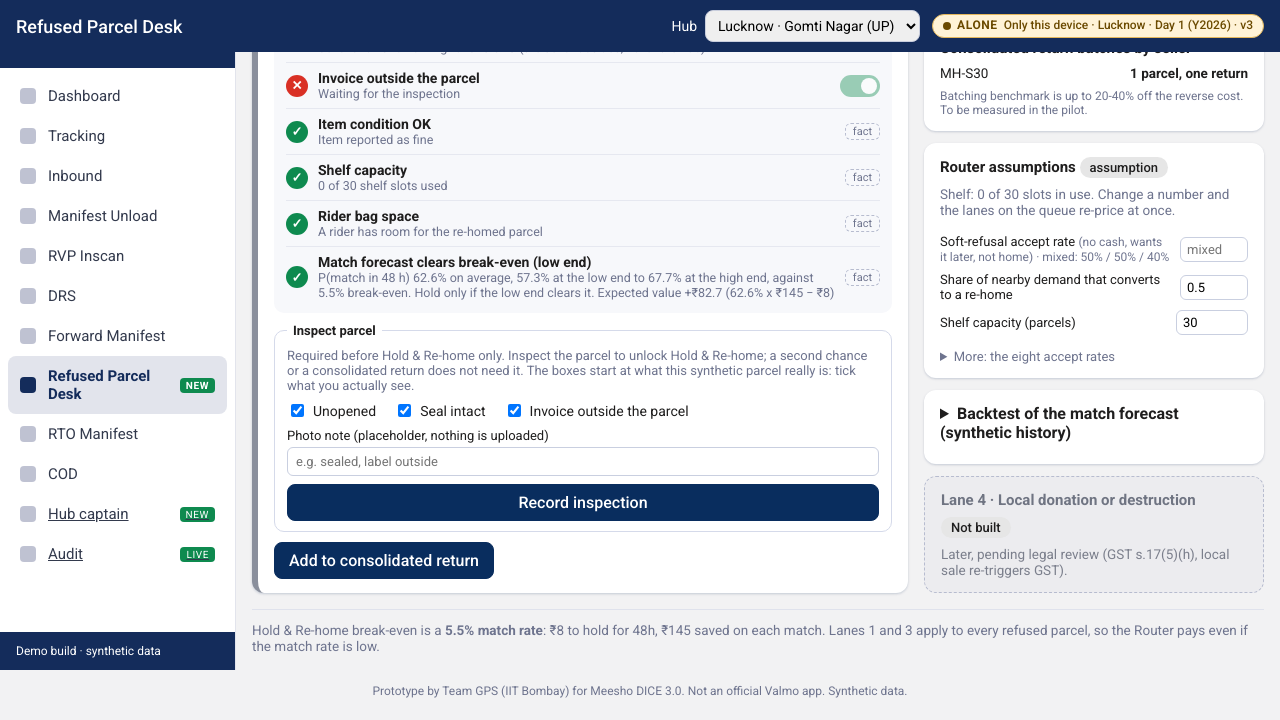
Test: desk: Inspect parcel › recording the inspection stores who and what, unlocks Hold & Re-home, and shows the record
(page scrolled)
Type "label outside" into the field labelled "Photo note (placeholder, nothing is uploaded)". click: (583, 462)
box: [287,447,879,476]
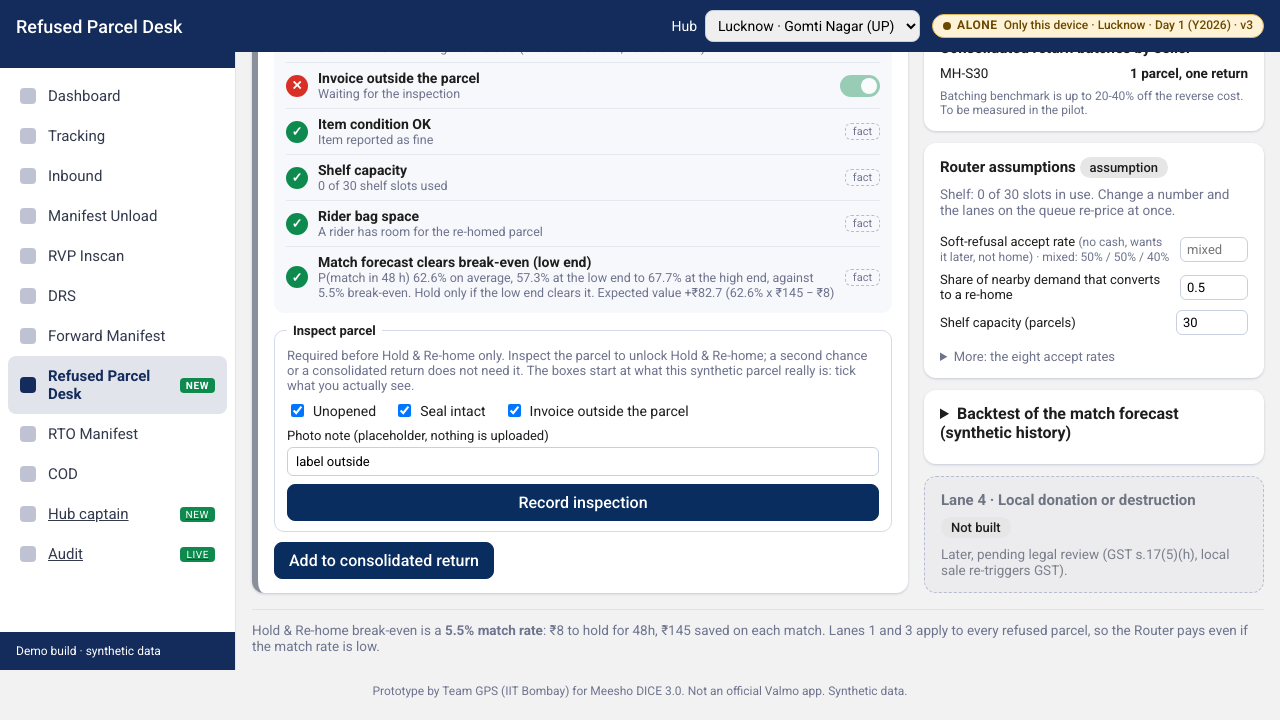
Click the button "Record inspection". click: (583, 503)
box: [287,484,879,521]
(page scrolled)
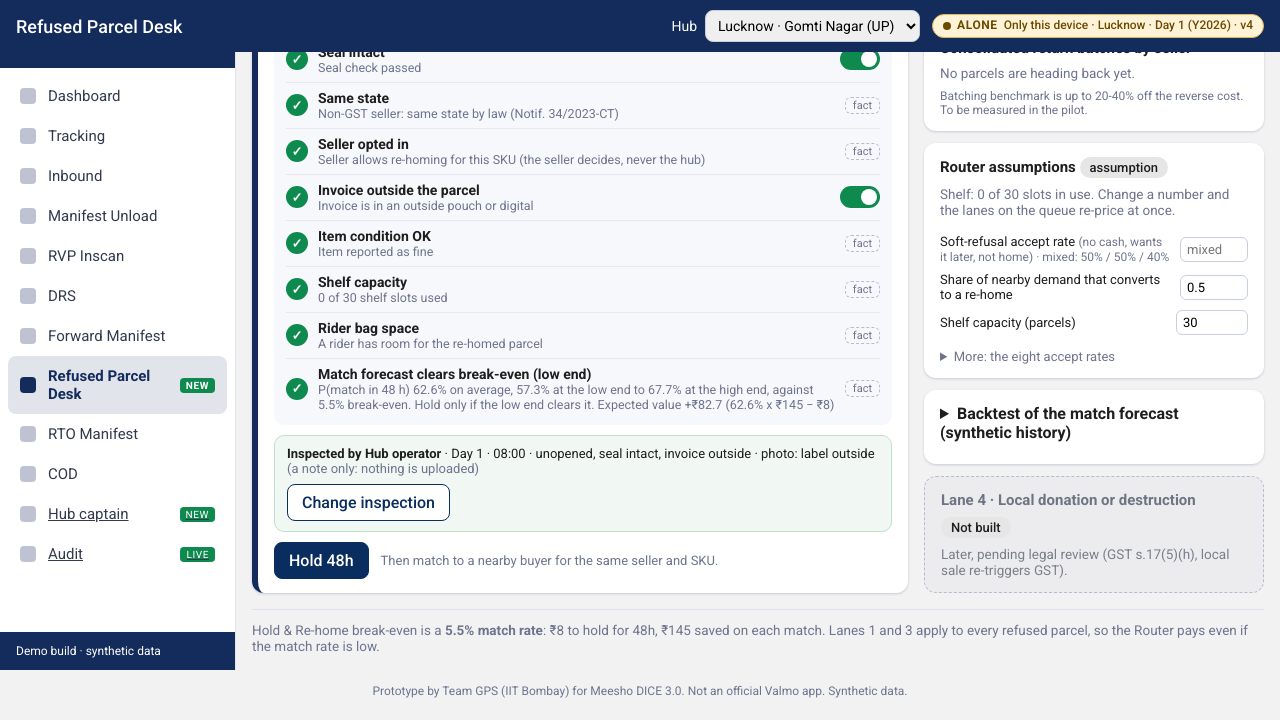
Check: the button "Hold 48h" is shown, box [274,542,369,579]
Check: the text "photo: label outside" is shown, box [751,446,875,461]
Check: the text "(a note only: nothing is uploaded)" is shown, box [287,461,479,476]
